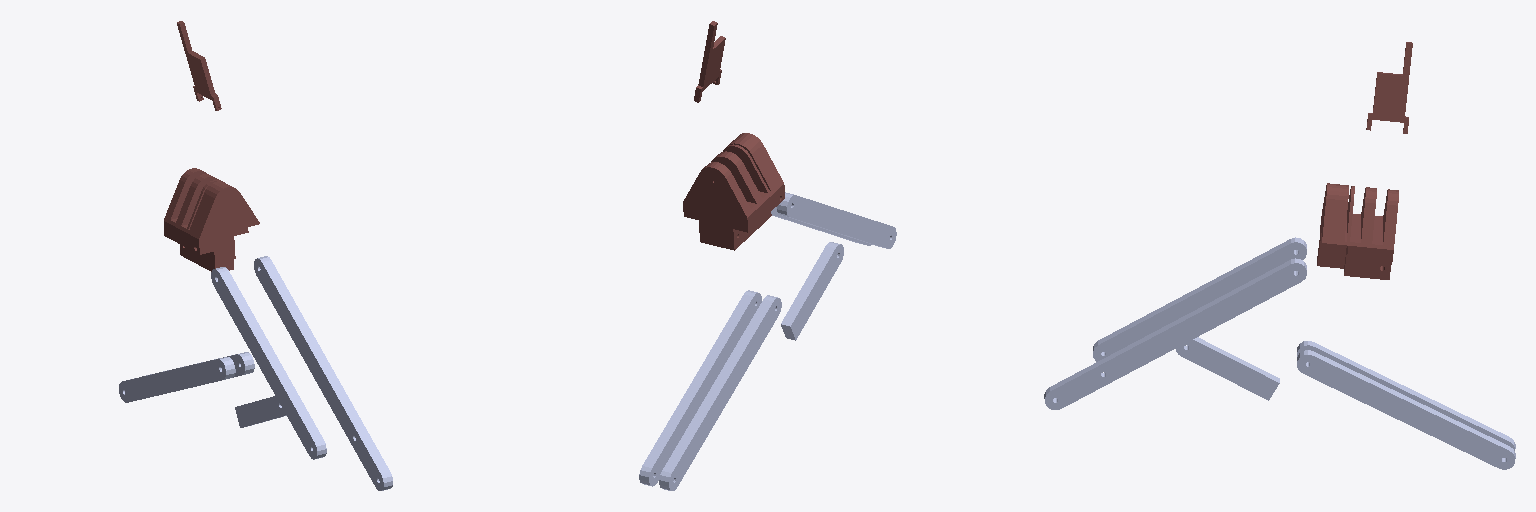
robot.urdf — Fridge-bot:
<?xml version="1.0" encoding="utf-8"?>
<!-- This URDF was automatically created by SolidWorks to URDF Exporter! Originally created by [author] ([email redacted]) 
     Commit Version: 1.6.0-4-g7f85cfe  Build Version: 1.6.7995.38578
     For more information, please see http://wiki.ros.org/sw_urdf_exporter -->
<robot
  name="Fridge-bot">
  <link
    name="base_link">
    <inertial>
      <origin
        xyz="0.065744341564924 0.045216580467112 0.0494910882181169"
        rpy="0 0 0" />
      <mass
        value="0.207046380810351" />
      <inertia
        ixx="0.000296100160478881"
        ixy="-2.96509727065676E-09"
        ixz="4.1481005406492E-07"
        iyy="0.000510587496763238"
        iyz="-2.58760118911616E-11"
        izz="0.000248571256331813" />
    </inertial>
    <visual>
      <origin
        xyz="0 0 0"
        rpy="0 0 0" />
      <geometry>
        <mesh
          filename="package://Fridge-bot/meshes/base_link.STL" />
      </geometry>
      <material
        name="">
        <color
          rgba="0.792156862745098 0.819607843137255 0.933333333333333 1" />
      </material>
    </visual>
    <collision>
      <origin
        xyz="0 0 0"
        rpy="0 0 0" />
      <geometry>
        <mesh
          filename="package://Fridge-bot/meshes/base_link.STL" />
      </geometry>
    </collision>
  </link>
  <link
    name="Turning_link">
    <inertial>
      <origin
        xyz="-0.0267697026327348 0.00488148698796461 0.0222183347728628"
        rpy="0 0 0" />
      <mass
        value="0.19237125582213" />
      <inertia
        ixx="0.000135901413995399"
        ixy="-1.33820761853295E-06"
        ixz="2.84315818360693E-06"
        iyy="0.000156555561267971"
        iyz="2.6996128156746E-06"
        izz="0.000197919660234674" />
    </inertial>
    <visual>
      <origin
        xyz="0 0 0"
        rpy="0 0 0" />
      <geometry>
        <mesh
          filename="package://Fridge-bot/meshes/Turning_link.STL" />
      </geometry>
      <material
        name="">
        <color
          rgba="0.792156862745098 0.819607843137255 0.933333333333333 1" />
      </material>
    </visual>
    <collision>
      <origin
        xyz="0 0 0"
        rpy="0 0 0" />
      <geometry>
        <mesh
          filename="package://Fridge-bot/meshes/Turning_link.STL" />
      </geometry>
    </collision>
  </link>
  <joint
    name="J1"
    type="revolute">
    <origin
      xyz="0.06605 0.032302 0.014542"
      rpy="1.5708 -0.0040186 0" />
    <parent
      link="base_link" />
    <child
      link="Turning_link" />
    <axis
      xyz="0 0 -1" />
    <limit
      lower="0"
      upper="6.28"
      effort="0"
      velocity="0" />
  </joint>
  <link
    name="Lower_backlink">
    <inertial>
      <origin
        xyz="0.0414635494994407 6.93889390390723E-18 0.00499999999999996"
        rpy="0 0 0" />
      <mass
        value="0.0193744467859455" />
      <inertia
        ixx="8.00416835228504E-07"
        ixy="-3.3881317890172E-21"
        ixz="4.52614911442815E-21"
        iyy="1.54913654040111E-05"
        iyz="1.88996064051875E-22"
        izz="1.59688747928072E-05" />
    </inertial>
    <visual>
      <origin
        xyz="0 0 0"
        rpy="0 0 0" />
      <geometry>
        <mesh
          filename="package://Fridge-bot/meshes/Lower_backlink.STL" />
      </geometry>
      <material
        name="">
        <color
          rgba="0.792156862745098 0.819607843137255 0.933333333333333 1" />
      </material>
    </visual>
    <collision>
      <origin
        xyz="0 0 0"
        rpy="0 0 0" />
      <geometry>
        <mesh
          filename="package://Fridge-bot/meshes/Lower_backlink.STL" />
      </geometry>
    </collision>
  </link>
  <joint
    name="J2"
    type="continuous">
    <origin
      xyz="-0.0225 -0.022855 0.065355"
      rpy="-1.5708 -1.0628 1.5708" />
    <parent
      link="Turning_link" />
    <child
      link="Lower_backlink" />
    <axis
      xyz="0 0 -1" />
  </joint>
  <link
    name="Link1">
    <inertial>
      <origin
        xyz="-2.35922392732846E-16 -0.0999111796922045 -0.00999999999999946"
        rpy="0 0 0" />
      <mass
        value="0.0855737940510451" />
      <inertia
        ixx="0.000328606447348668"
        ixy="-8.20986684126231E-19"
        ixz="-4.72153637505962E-22"
        iyy="3.53584860057504E-06"
        iyz="-2.15784962745792E-16"
        izz="0.000330716066048393" />
    </inertial>
    <visual>
      <origin
        xyz="0 0 0"
        rpy="0 0 0" />
      <geometry>
        <mesh
          filename="package://Fridge-bot/meshes/Link1.STL" />
      </geometry>
      <material
        name="">
        <color
          rgba="0.792156862745098 0.819607843137255 0.933333333333333 1" />
      </material>
    </visual>
    <collision>
      <origin
        xyz="0 0 0"
        rpy="0 0 0" />
      <geometry>
        <mesh
          filename="package://Fridge-bot/meshes/Link1.STL" />
      </geometry>
    </collision>
  </link>
  <joint
    name="J3"
    type="revolute">
    <origin
      xyz="-0.0275 0.0125 0.03"
      rpy="-1.5708 0.49038 1.5708" />
    <parent
      link="Turning_link" />
    <child
      link="Link1" />
    <axis
      xyz="0 0 -1" />
    <limit
      lower="0"
      upper="6.28"
      effort="0"
      velocity="0" />
  </joint>
  <link
    name="Triangle">
    <inertial>
      <origin
        xyz="0.0128671162531902 0.0149668569116932 0.005"
        rpy="0 0 0" />
      <mass
        value="0.0191246861766036" />
      <inertia
        ixx="5.62289539865078E-06"
        ixy="2.73395813990835E-06"
        ixz="-5.92896539083225E-22"
        iyy="4.65318566936927E-06"
        iyz="5.42998781656638E-22"
        izz="9.95733629840999E-06" />
    </inertial>
    <visual>
      <origin
        xyz="0 0 0"
        rpy="0 0 0" />
      <geometry>
        <mesh
          filename="package://Fridge-bot/meshes/Triangle.STL" />
      </geometry>
      <material
        name="">
        <color
          rgba="0.792156862745098 0.819607843137255 0.933333333333333 1" />
      </material>
    </visual>
    <collision>
      <origin
        xyz="0 0 0"
        rpy="0 0 0" />
      <geometry>
        <mesh
          filename="package://Fridge-bot/meshes/Triangle.STL" />
      </geometry>
    </collision>
  </link>
  <joint
    name="J4"
    type="continuous">
    <origin
      xyz="0 -0.2 -0.015"
      rpy="0 0 3.0193" />
    <parent
      link="Link1" />
    <child
      link="Triangle" />
    <axis
      xyz="0 0 1" />
  </joint>
  <link
    name="Upper_backlink">
    <inertial>
      <origin
        xyz="0.0414635494994406 5.55111512312578E-16 0.00499999999999998"
        rpy="0 0 0" />
      <mass
        value="0.0193744467859455" />
      <inertia
        ixx="8.00416835228507E-07"
        ixy="1.07467305182889E-20"
        ixz="9.79827535050522E-22"
        iyy="1.54913654040111E-05"
        iyz="-2.98745253902473E-22"
        izz="1.59688747928072E-05" />
    </inertial>
    <visual>
      <origin
        xyz="0 0 0"
        rpy="0 0 0" />
      <geometry>
        <mesh
          filename="package://Fridge-bot/meshes/Upper_backlink.STL" />
      </geometry>
      <material
        name="">
        <color
          rgba="0.792156862745098 0.819607843137255 0.933333333333333 1" />
      </material>
    </visual>
    <collision>
      <origin
        xyz="0 0 0"
        rpy="0 0 0" />
      <geometry>
        <mesh
          filename="package://Fridge-bot/meshes/Upper_backlink.STL" />
      </geometry>
    </collision>
  </link>
  <joint
    name="J5"
    type="continuous">
    <origin
      xyz="0.045 0 0.02"
      rpy="3.1416 0 -1.4308" />
    <parent
      link="Triangle" />
    <child
      link="Upper_backlink" />
    <axis
      xyz="0 0 -1" />
  </joint>
  <link
    name="Upper_frontLink">
    <inertial>
      <origin
        xyz="0.0463904561233811 -6.45872244575685E-14 7.9956874454723E-14"
        rpy="0 0 0" />
      <mass
        value="0.0214124502395769" />
      <inertia
        ixx="8.8417413172566E-07"
        ixy="-2.26226618343863E-17"
        ixz="3.03411185861136E-17"
        iyy="2.08029877158262E-05"
        iyz="-6.48649465622115E-23"
        izz="2.13302876768923E-05" />
    </inertial>
    <visual>
      <origin
        xyz="0 0 0"
        rpy="0 0 0" />
      <geometry>
        <mesh
          filename="package://Fridge-bot/meshes/Upper_frontLink.STL" />
      </geometry>
      <material
        name="">
        <color
          rgba="0.792156862745098 0.819607843137255 0.933333333333333 1" />
      </material>
    </visual>
    <collision>
      <origin
        xyz="0 0 0"
        rpy="0 0 0" />
      <geometry>
        <mesh
          filename="package://Fridge-bot/meshes/Upper_frontLink.STL" />
      </geometry>
    </collision>
  </link>
  <joint
    name="J6"
    type="continuous">
    <origin
      xyz="0 0.05 -0.005"
      rpy="3.1416 0 -2.48" />
    <parent
      link="Triangle" />
    <child
      link="Upper_frontLink" />
    <axis
      xyz="0 0 -1" />
  </joint>
  <link
    name="Link2">
    <inertial>
      <origin
        xyz="2.77555756156289E-17 -0.0863342210093204 0.0247054628952012"
        rpy="0 0 0" />
      <mass
        value="0.0953394410565643" />
      <inertia
        ixx="0.000470411650298866"
        ixy="5.4315987742682E-19"
        ixz="1.51753137276197E-21"
        iyy="3.95014826174653E-06"
        iyz="-3.09405752680569E-16"
        izz="0.000472772807876337" />
    </inertial>
    <visual>
      <origin
        xyz="0 0 0"
        rpy="0 0 0" />
      <geometry>
        <mesh
          filename="package://Fridge-bot/meshes/Link2.STL" />
      </geometry>
      <material
        name="">
        <color
          rgba="0.792156862745098 0.819607843137255 0.933333333333333 1" />
      </material>
    </visual>
    <collision>
      <origin
        xyz="0 0 0"
        rpy="0 0 0" />
      <geometry>
        <mesh
          filename="package://Fridge-bot/meshes/Link2.STL" />
      </geometry>
    </collision>
  </link>
  <joint
    name="J7"
    type="revolute">
    <origin
      xyz="0 -0.2 0.01"
      rpy="3.1416 0 -1.0177" />
    <parent
      link="Link1" />
    <child
      link="Link2" />
    <axis
      xyz="0 0 -1" />
    <limit
      lower="0"
      upper="6.28"
      effort="0"
      velocity="0" />
  </joint>
  <link
    name="Back_gripper">
    <inertial>
      <origin
        xyz="-0.0250028133017936 0.0239301160957177 0.00141734074678103"
        rpy="0 0 0" />
      <mass
        value="1.53802958602338" />
      <inertia
        ixx="0.000909413538569685"
        ixy="8.26533997142431E-05"
        ixz="-2.76680034671548E-05"
        iyy="0.000912566548096114"
        iyz="-4.94357740447193E-05"
        izz="0.00115501581802408" />
    </inertial>
    <visual>
      <origin
        xyz="0 0 0"
        rpy="0 0 0" />
      <geometry>
        <mesh
          filename="package://Fridge-bot/meshes/Back_gripper.STL" />
      </geometry>
      <material
        name="">
        <color
          rgba="0.537254901960784 0.349019607843137 0.337254901960784 1" />
      </material>
    </visual>
    <collision>
      <origin
        xyz="0 0 0"
        rpy="0 0 0" />
      <geometry>
        <mesh
          filename="package://Fridge-bot/meshes/Back_gripper.STL" />
      </geometry>
    </collision>
  </link>
  <joint
    name="J8"
    type="continuous">
    <origin
      xyz="0 -0.2 0.022327"
      rpy="3.1416 0 2.5048" />
    <parent
      link="Link2" />
    <child
      link="Back_gripper" />
    <axis
      xyz="0 0 1" />
  </joint>
  <link
    name="front_halfgripper">
    <inertial>
      <origin
        xyz="-0.000216464748702024 0.0283235783013315 0.0142900639859031"
        rpy="0 0 0" />
      <mass
        value="0.558596679661737" />
      <inertia
        ixx="0.000309404274315498"
        ixy="-3.91459968046766E-05"
        ixz="3.65468624887361E-06"
        iyy="0.000256279098899188"
        iyz="8.07700601429671E-06"
        izz="0.00046459335100017" />
    </inertial>
    <visual>
      <origin
        xyz="0 0 0"
        rpy="0 0 0" />
      <geometry>
        <mesh
          filename="package://Fridge-bot/meshes/front_halfgripper.STL" />
      </geometry>
      <material
        name="">
        <color
          rgba="0.537254901960784 0.349019607843137 0.337254901960784 1" />
      </material>
    </visual>
    <collision>
      <origin
        xyz="0 0 0"
        rpy="0 0 0" />
      <geometry>
        <mesh
          filename="package://Fridge-bot/meshes/front_halfgripper.STL" />
      </geometry>
    </collision>
  </link>
  <joint
    name="J9"
    type="revolute">
    <origin
      xyz="-0.054 0.0035 -8.2845E-05"
      rpy="1.5708 1.5515 -3.1416" />
    <parent
      link="Back_gripper" />
    <child
      link="front_halfgripper" />
    <axis
      xyz="0 0.00012782 1" />
    <limit
      lower="0"
      upper="6.28"
      effort="0"
      velocity="0" />
  </joint>
  <link
    name="gripper">
    <inertial>
      <origin
        xyz="0.0309607104904638 -4.59355418679364E-05 0.017144407490665"
        rpy="0 0 0" />
      <mass
        value="0.0686737389522782" />
      <inertia
        ixx="6.40644623542164E-06"
        ixy="-1.58915253493507E-10"
        ixz="3.10523081266725E-06"
        iyy="2.87092893917181E-05"
        iyz="3.68993537350604E-11"
        izz="2.25895985442529E-05" />
    </inertial>
    <visual>
      <origin
        xyz="0 0 0"
        rpy="0 0 0" />
      <geometry>
        <mesh
          filename="package://Fridge-bot/meshes/gripper.STL" />
      </geometry>
      <material
        name="">
        <color
          rgba="0.537254901960784 0.349019607843137 0.337254901960784 1" />
      </material>
    </visual>
    <collision>
      <origin
        xyz="0 0 0"
        rpy="0 0 0" />
      <geometry>
        <mesh
          filename="package://Fridge-bot/meshes/gripper.STL" />
      </geometry>
    </collision>
  </link>
  <joint
    name="J10"
    type="revolute">
    <origin
      xyz="0.012523 0.027447 -0.004"
      rpy="0 0 1.7772" />
    <parent
      link="front_halfgripper" />
    <child
      link="gripper" />
    <axis
      xyz="-0.0001246 2.8609E-05 -1" />
    <limit
      lower="0"
      upper="6.28"
      effort="0"
      velocity="0" />
  </joint>
  <link
    name="Lower_frontlink">
    <inertial>
      <origin
        xyz="0.0463904561233882 -6.10067552031524E-14 7.99707522425308E-14"
        rpy="0 0 0" />
      <mass
        value="0.0214124502395769" />
      <inertia
        ixx="8.84174131725665E-07"
        ixy="-2.26162561477226E-17"
        ixz="3.03388488913352E-17"
        iyy="2.08029877158262E-05"
        iyz="8.13942229557454E-23"
        izz="2.13302876768922E-05" />
    </inertial>
    <visual>
      <origin
        xyz="0 0 0"
        rpy="0 0 0" />
      <geometry>
        <mesh
          filename="package://Fridge-bot/meshes/Lower_frontlink.STL" />
      </geometry>
      <material
        name="">
        <color
          rgba="0.792156862745098 0.819607843137255 0.933333333333333 1" />
      </material>
    </visual>
    <collision>
      <origin
        xyz="0 0 0"
        rpy="0 0 0" />
      <geometry>
        <mesh
          filename="package://Fridge-bot/meshes/Lower_frontlink.STL" />
      </geometry>
    </collision>
  </link>
  <joint
    name="J11"
    type="continuous">
    <origin
      xyz="-0.015 0.05 -0.0074928"
      rpy="-3.1416 0 0.92013" />
    <parent
      link="Back_gripper" />
    <child
      link="Lower_frontlink" />
    <axis
      xyz="0 0 -1" />
  </joint>
</robot>

--- What the picture shows (computed from the rendered views, not written in the file) ---
Views: 3 orthographic renders of the robot side by side, from view 1: azimuth 30°, elevation 25°; view 2: azimuth 150°, elevation 25°; view 3: azimuth 270°, elevation 25°.
Robot: Fridge-bot — 12 links, 11 joints (5 revolute, 6 continuous); root link base_link; default pose: every joint at zero.
Visible links, largest first — view 1: Link2, Back_gripper, Link1, gripper, Upper_backlink; view 2: Link1, Back_gripper, Link2, Upper_backlink, gripper; view 3: Link2, Link1, Back_gripper, Upper_backlink, gripper.
Link boxes in pixels (box(x1,y1,x2,y2)): Link2: box(211, 256, 392, 490); Back_gripper: box(164, 168, 259, 271); Link1: box(119, 352, 254, 402); gripper: box(177, 21, 221, 110); Upper_backlink: box(235, 396, 286, 427); Link1: box(639, 290, 781, 490); Back_gripper: box(683, 133, 784, 250); Link2: box(771, 192, 896, 248); Upper_backlink: box(781, 242, 843, 340); gripper: box(694, 21, 725, 102); Link2: box(1044, 237, 1306, 409); Link1: box(1297, 341, 1515, 469); Back_gripper: box(1317, 183, 1398, 279); Upper_backlink: box(1176, 337, 1279, 400); gripper: box(1366, 42, 1412, 133).
Size in the robot's own frame: 0.0651 by 0.4227 by 0.4146 metres.
Meshes: 12 distinct files referenced, 5 mesh visuals loaded (5 binary STL); not drawn: 7 (reference not matched to a file when rendering).